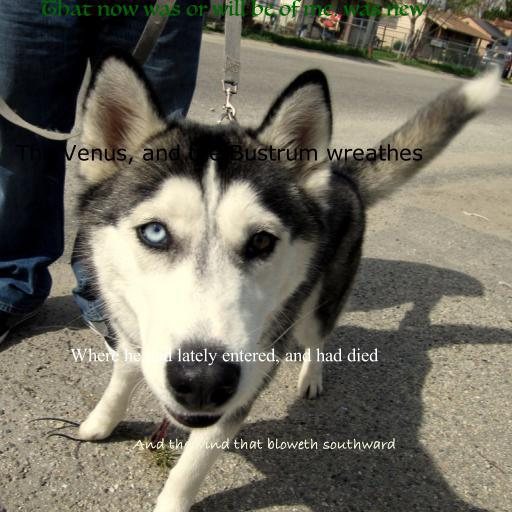Bradley Hand: (132, 437, 396, 450)
Luminari: (41, 0, 425, 19)
Times New Roman: (70, 348, 378, 366)
Verdana: (15, 144, 423, 165)
